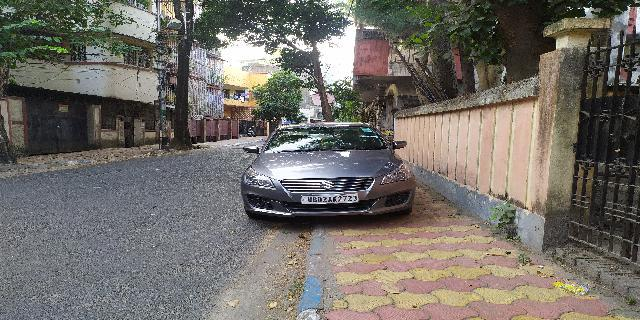Car: (240, 118, 416, 229)
